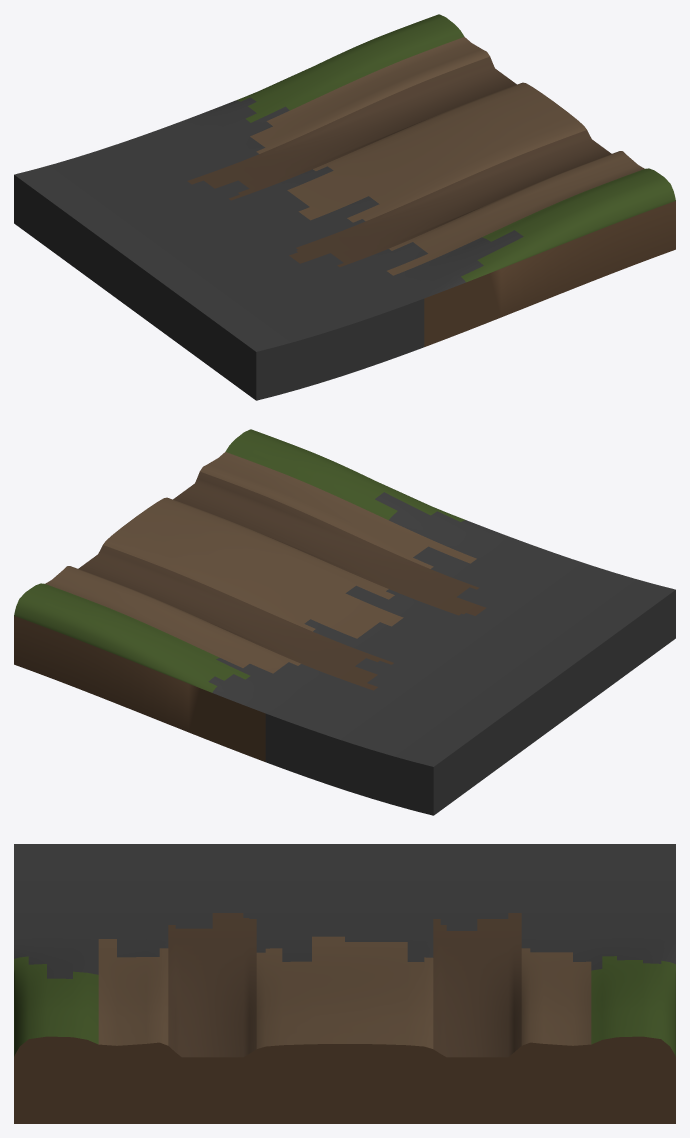
3 views of the same model, one above another, from view 1: azimuth 30°, elevation 25°; view 2: azimuth 150°, elevation 25°; view 3: azimuth 270°, elevation 25° (orthographic). The views are drawn at different scales.
Visible parts, largest first — view 1: d0u; view 2: d0u; view 3: d0u.
Part boxes in pixels (x1,y1,x2,y2): d0u: (14,14,675,400); d0u: (14,429,675,815); d0u: (14,844,675,1123).
Bounding box in the file's own units: 9 × 2.31 × 9.
